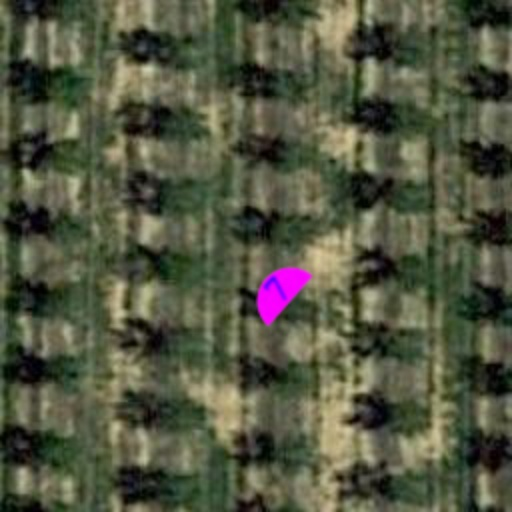semicircle: (230, 242, 326, 338)
